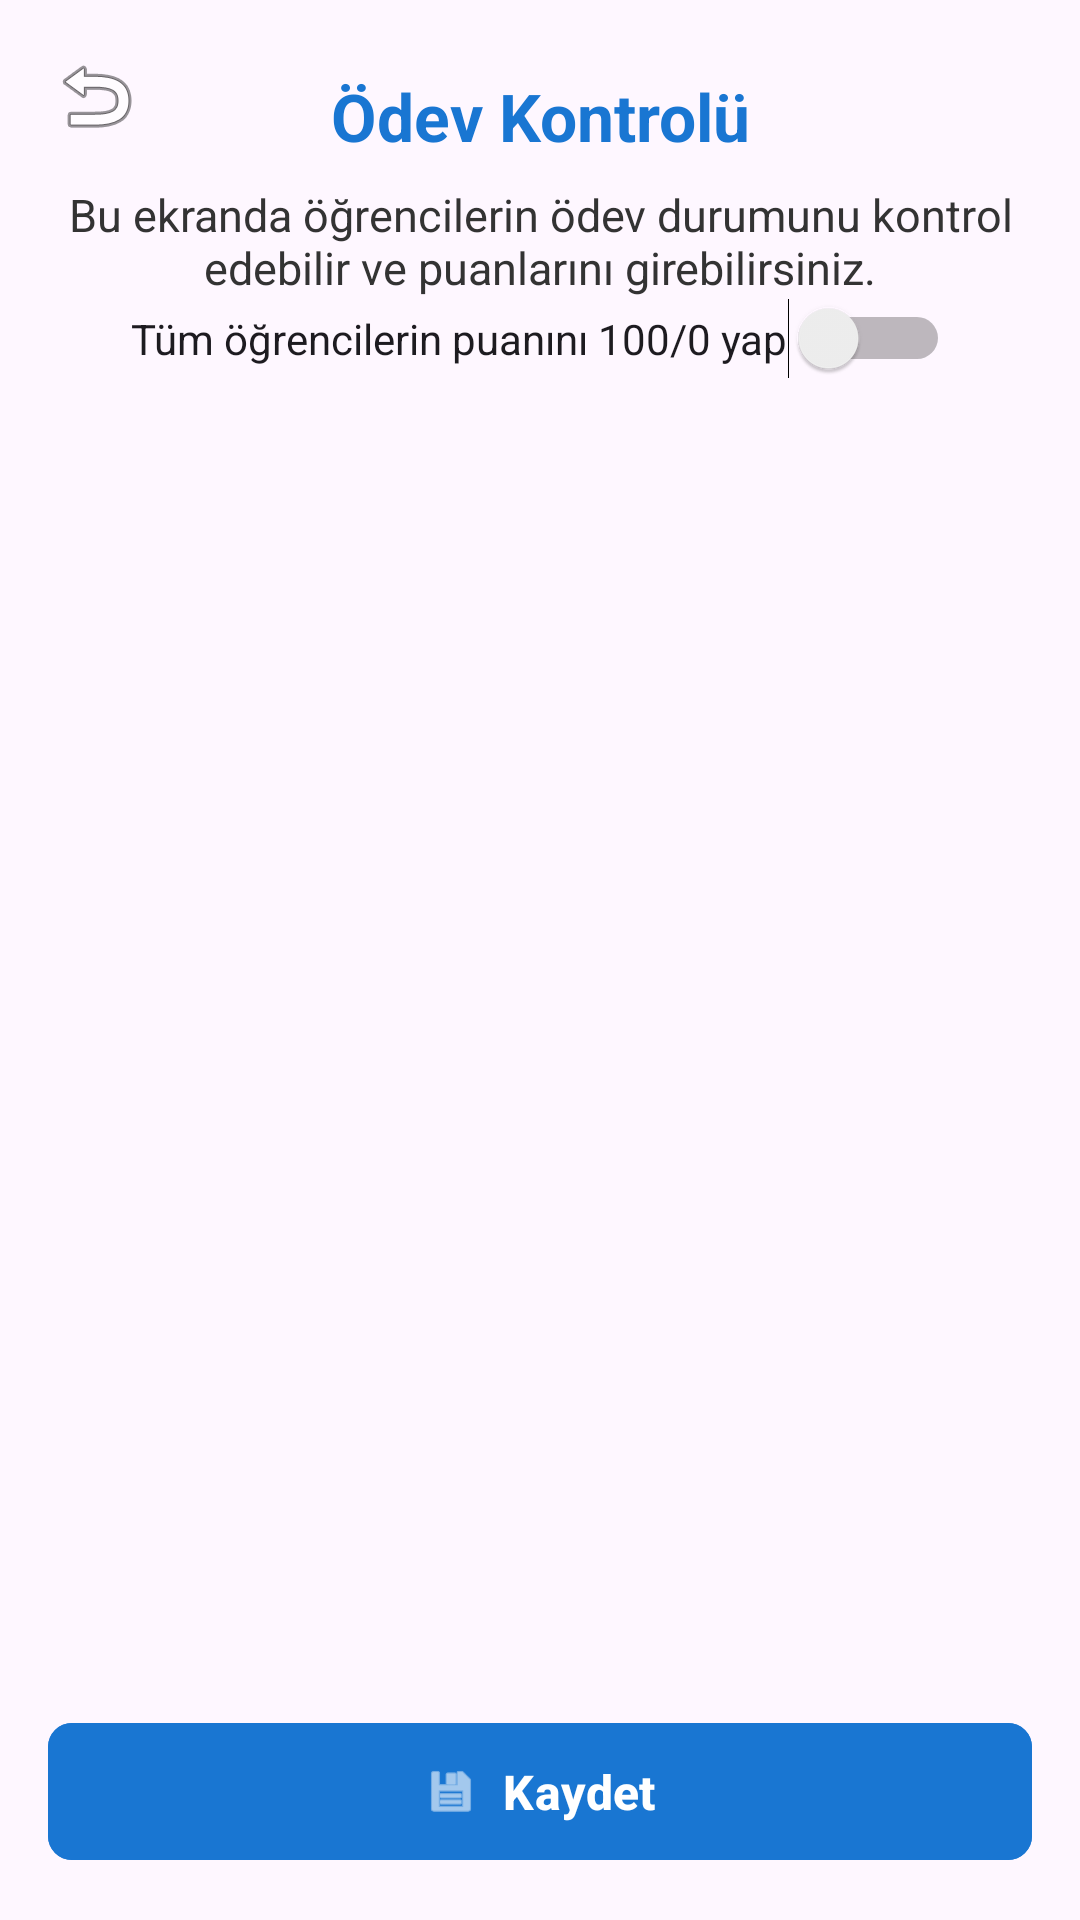

Point at icon controls on the screen. Image size 1080 × 1920, points as (x=x, y=y).
Geri: (x=97, y=96)
